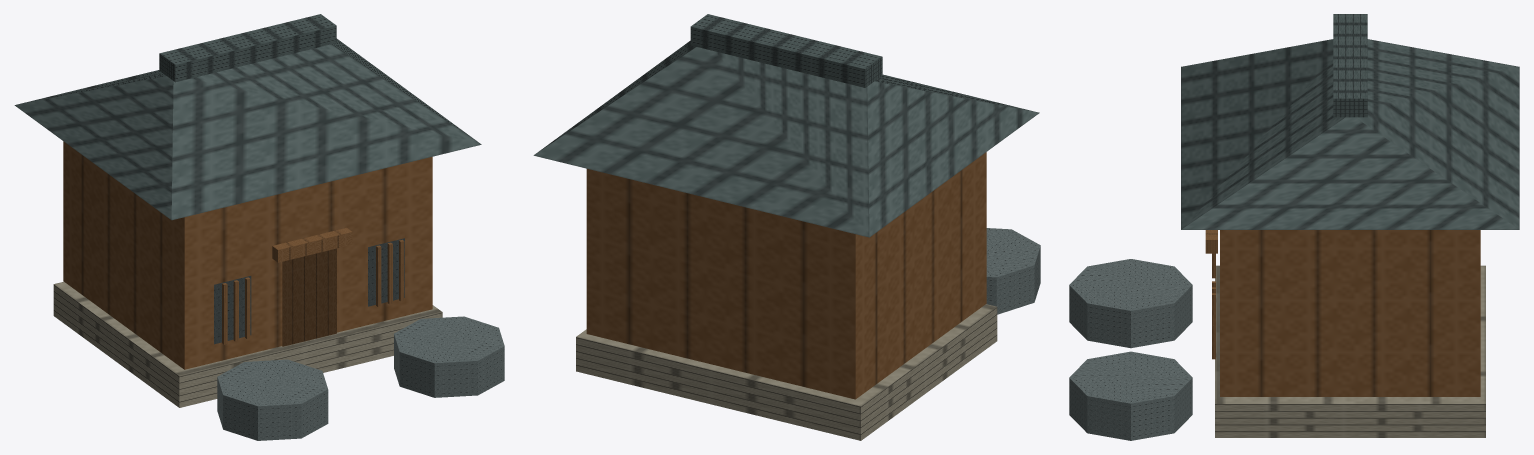
The model's file is domestic-MINT-1-lod1.glb.
3 views of the same model, side by side, from view 1: azimuth 30°, elevation 25°; view 2: azimuth 150°, elevation 25°; view 3: azimuth 270°, elevation 25° (orthographic). The views are drawn at different scales.
Bounding box in the file's own units: 0.5625 × 0.503 × 0.657.
1 material, 1 textured.
